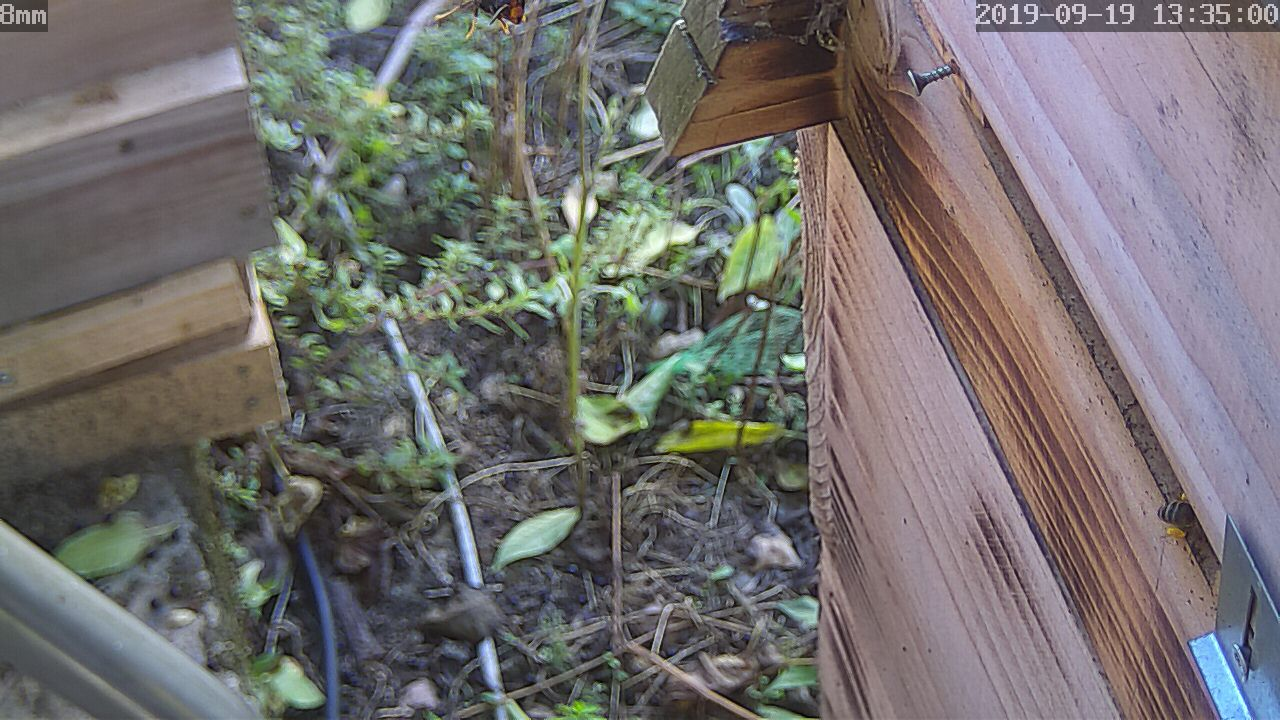bee: (1157, 486, 1202, 549)
hornet: (432, 1, 536, 32)
